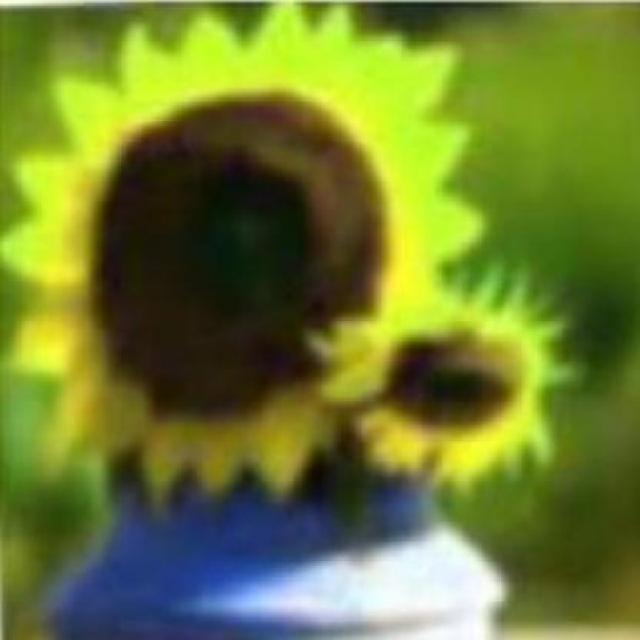sunflower: (21, 18, 482, 488)
